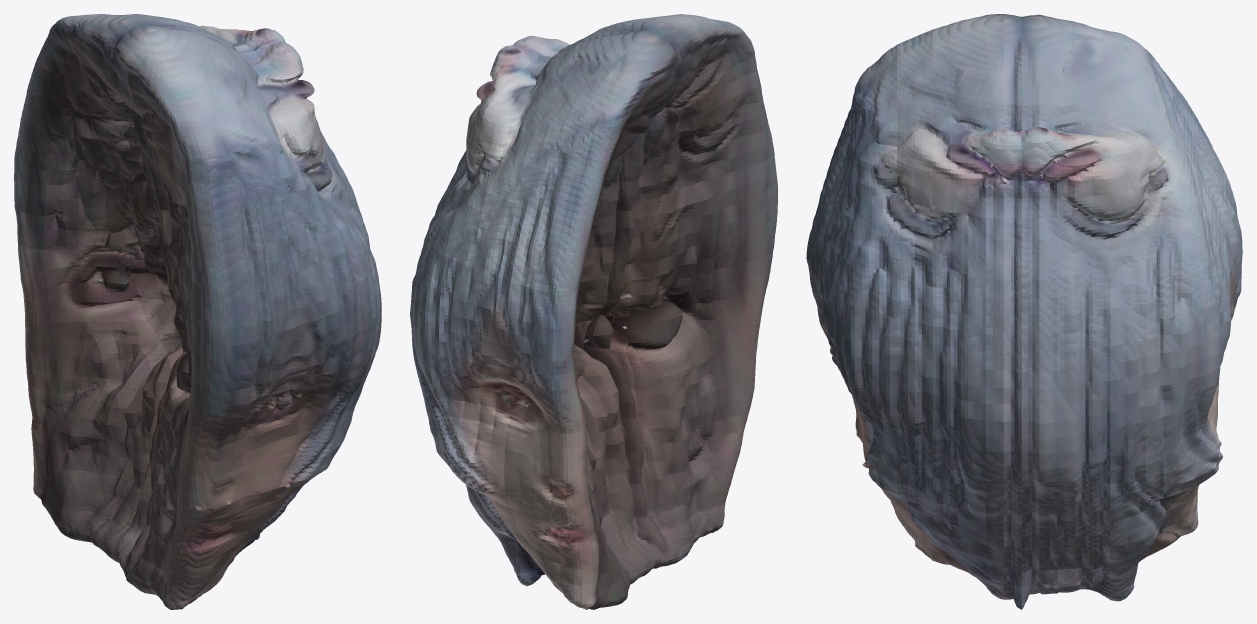
Rendered from ReiHeadKeft.glb.
3 renders of one model, left to right at view 1: azimuth 30°, elevation 25°; view 2: azimuth 150°, elevation 25°; view 3: azimuth 270°, elevation 25°, orthographic. The views are drawn at different scales.
Visible parts, largest first — view 1: world; view 2: world; view 3: world.
Boxes of the visible parts, x1,y1,x2,y2 form: world: (14,14,381,609); world: (410,14,777,609); world: (806,14,1242,609).
Size of the model in its own units: 0.4394 by 0.924 by 0.6693.
